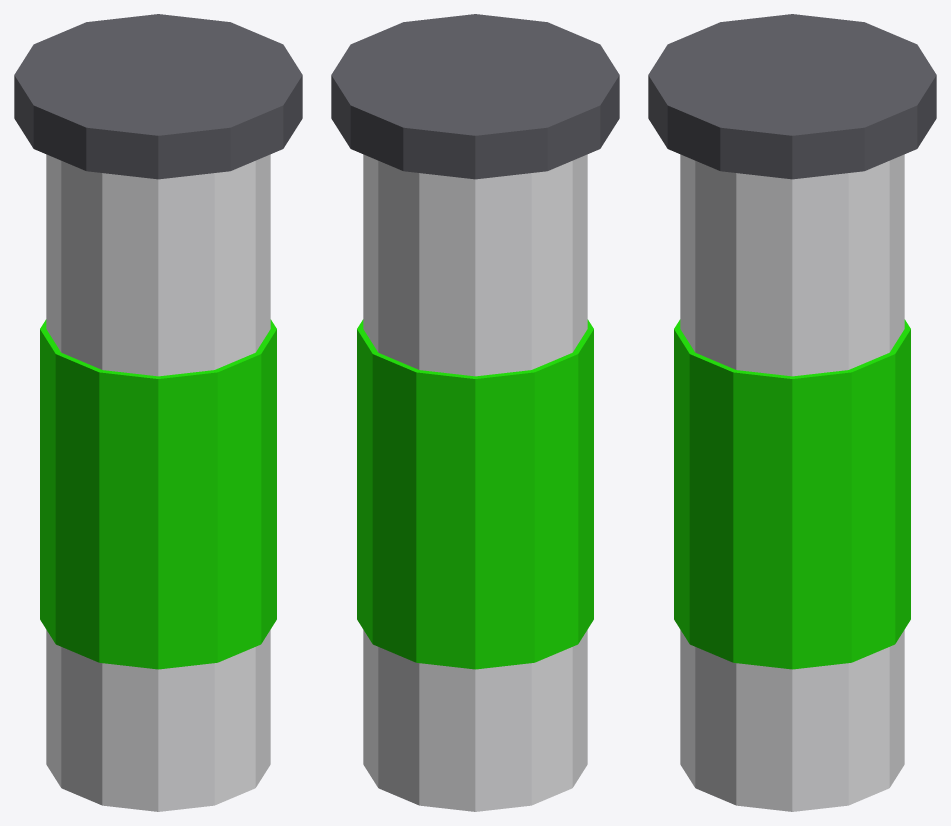
The model's file is AdrenalineGreen.fbx.
3 renders of one model, left to right at view 1: azimuth 30°, elevation 25°; view 2: azimuth 150°, elevation 25°; view 3: azimuth 270°, elevation 25°, orthographic.
Parts seen in each view (by area): view 1: Item_Adrenaline, Cylinder, Cylinder.001; view 2: Item_Adrenaline, Cylinder, Cylinder.001; view 3: Item_Adrenaline, Cylinder, Cylinder.001.
Boxes of the visible parts, <box> form: Item_Adrenaline: <box>46,154,270,811</box>; Cylinder: <box>40,319,276,669</box>; Cylinder.001: <box>14,14,302,179</box>; Item_Adrenaline: <box>363,154,587,811</box>; Cylinder: <box>357,319,593,669</box>; Cylinder.001: <box>331,14,619,179</box>; Item_Adrenaline: <box>680,154,904,811</box>; Cylinder: <box>674,319,910,669</box>; Cylinder.001: <box>648,14,936,179</box>.
Size of the model in its own units: 0.09 by 0.09 by 0.2375.
